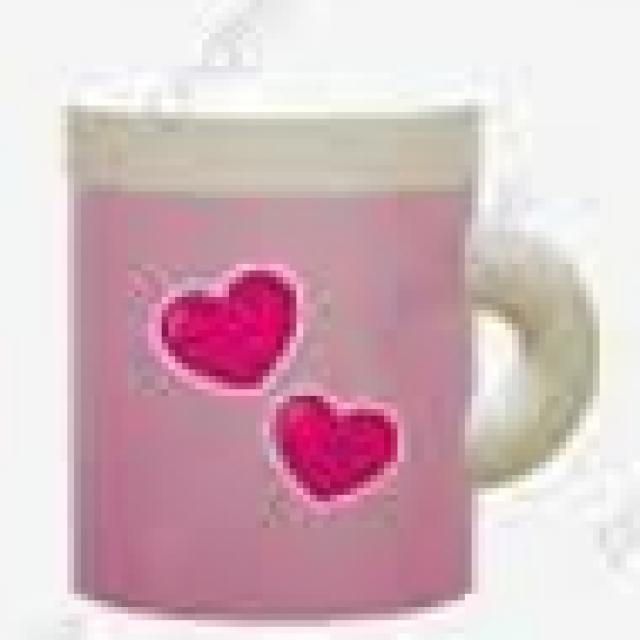taza: (60, 71, 603, 629)
